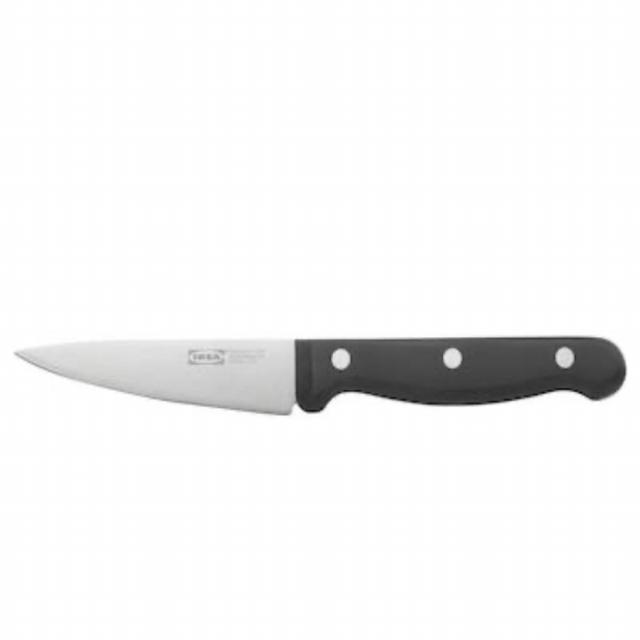Knife: (2, 304, 640, 462)
